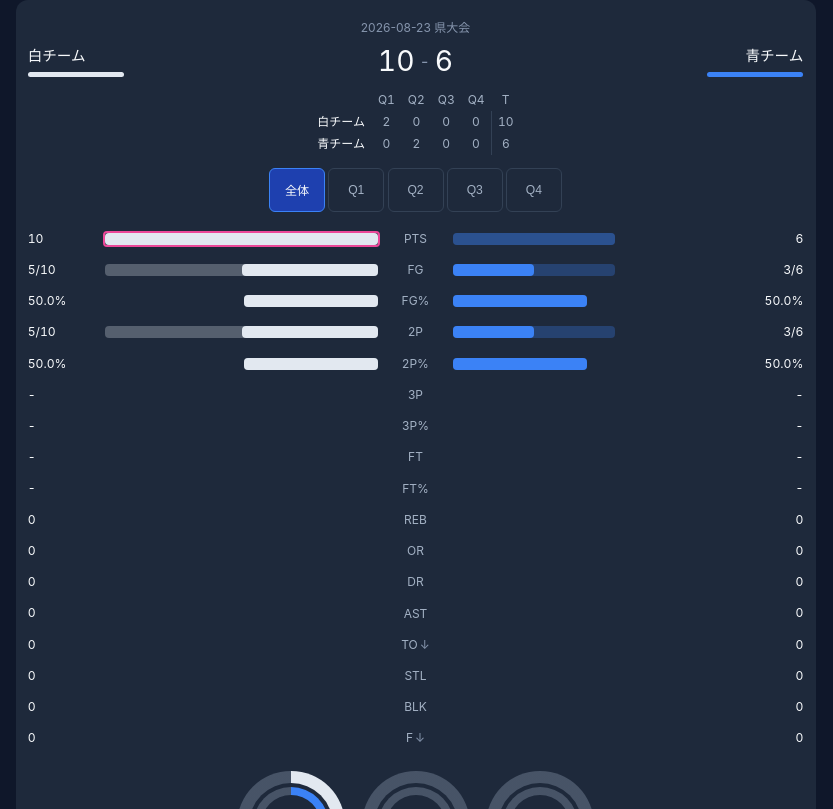
TeamComparison › クォーターを選ぶとその範囲だけを出す
Click the button "Q1".
click(356, 190)  # box [328,168,384,212]
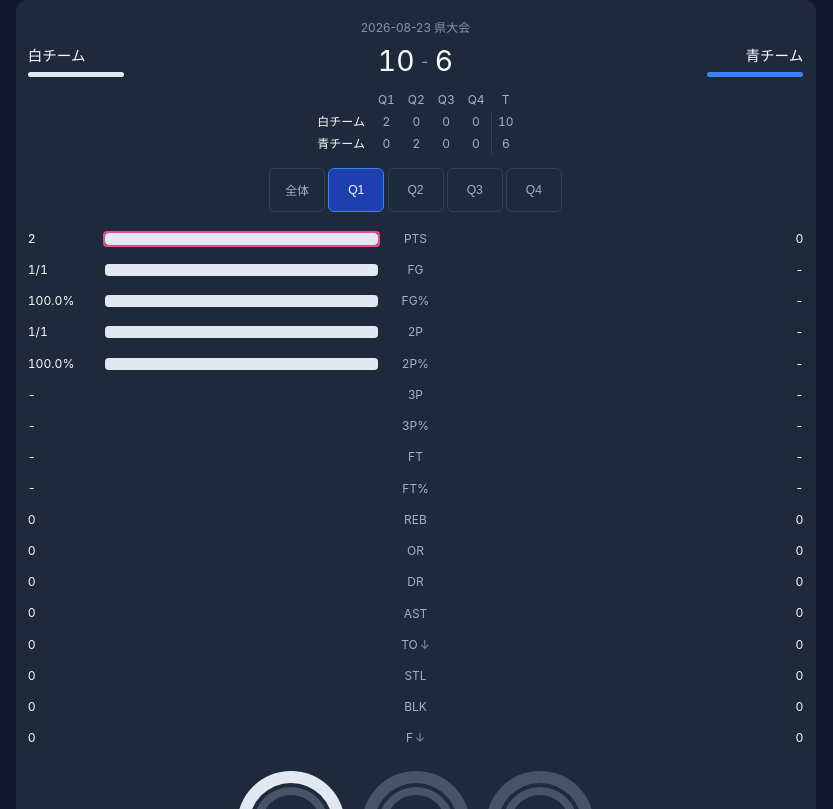
Check: the text with class "left" reads "2", box [28,231,36,246]
Check: the text with class "right" in the row of "PTS" reads "0", box [796,231,803,246]
